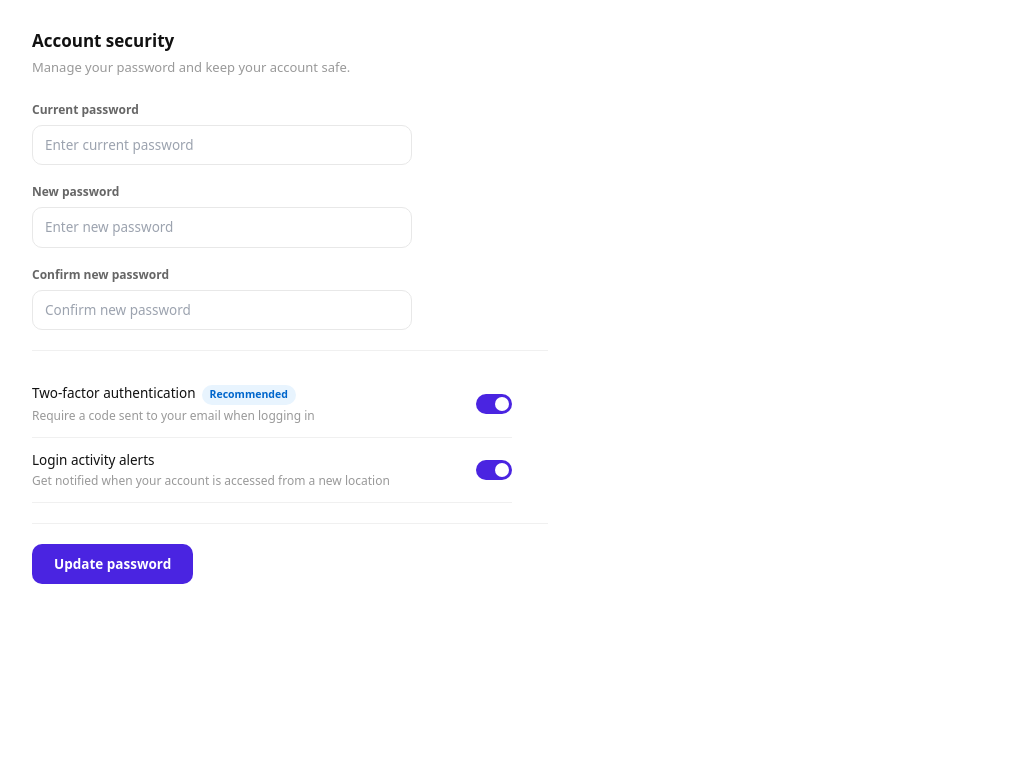
Scenario: SecuritySection › disabling two-factor authentication › requires a password before allowing the disable request
Click the checkbox in the row of "Recommended" at (494,404), box top-left (476, 394), bottom-right (512, 414)
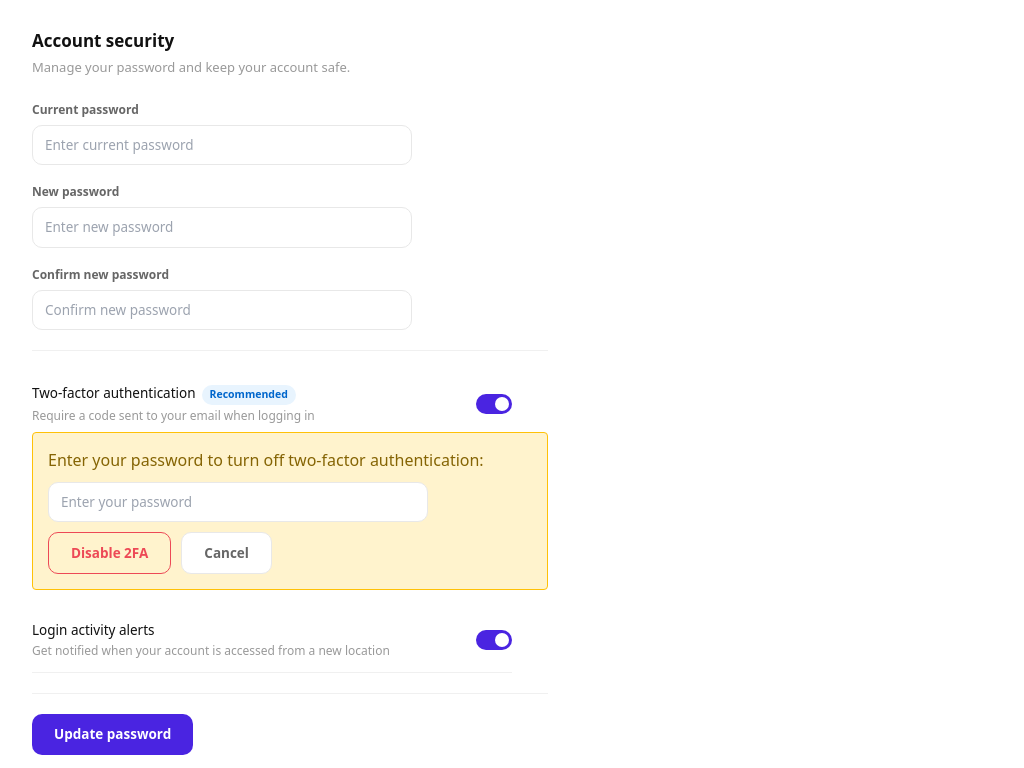
Check: the text "Enter your password to turn off two-factor authentication:" is shown, box top-left (48, 448), bottom-right (532, 472)
Click the button "Disable 2FA" at (110,553), box top-left (48, 532), bottom-right (171, 574)
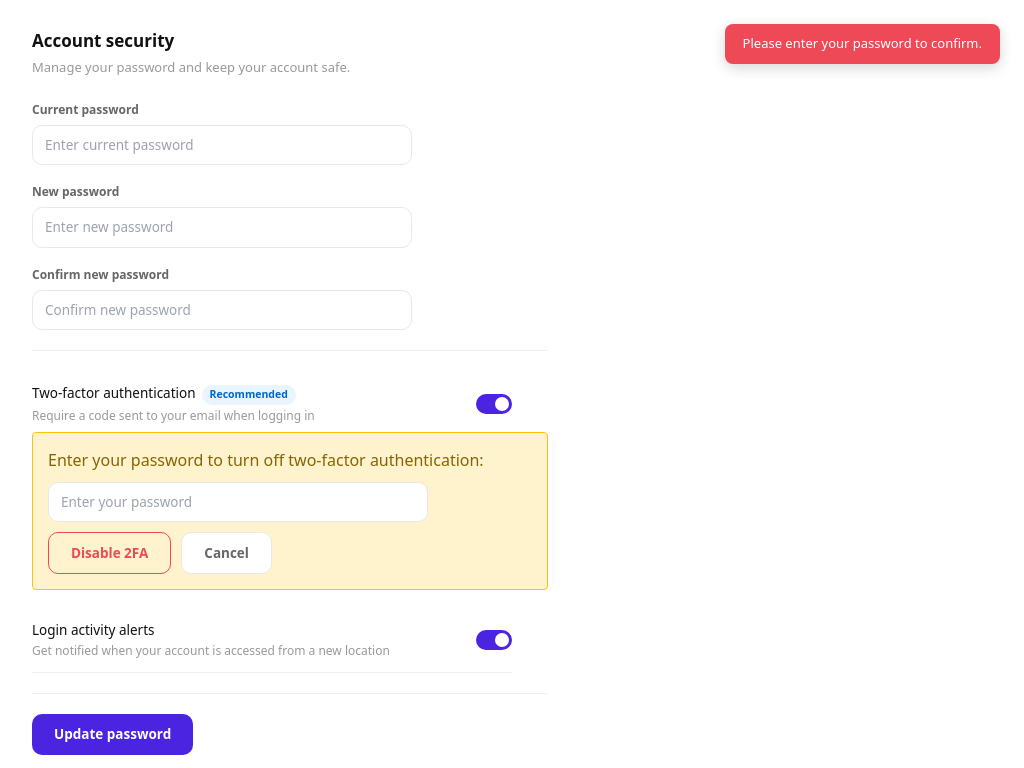
Check: the text "Please enter your password to confirm." is shown, box top-left (725, 24), bottom-right (1000, 64)
